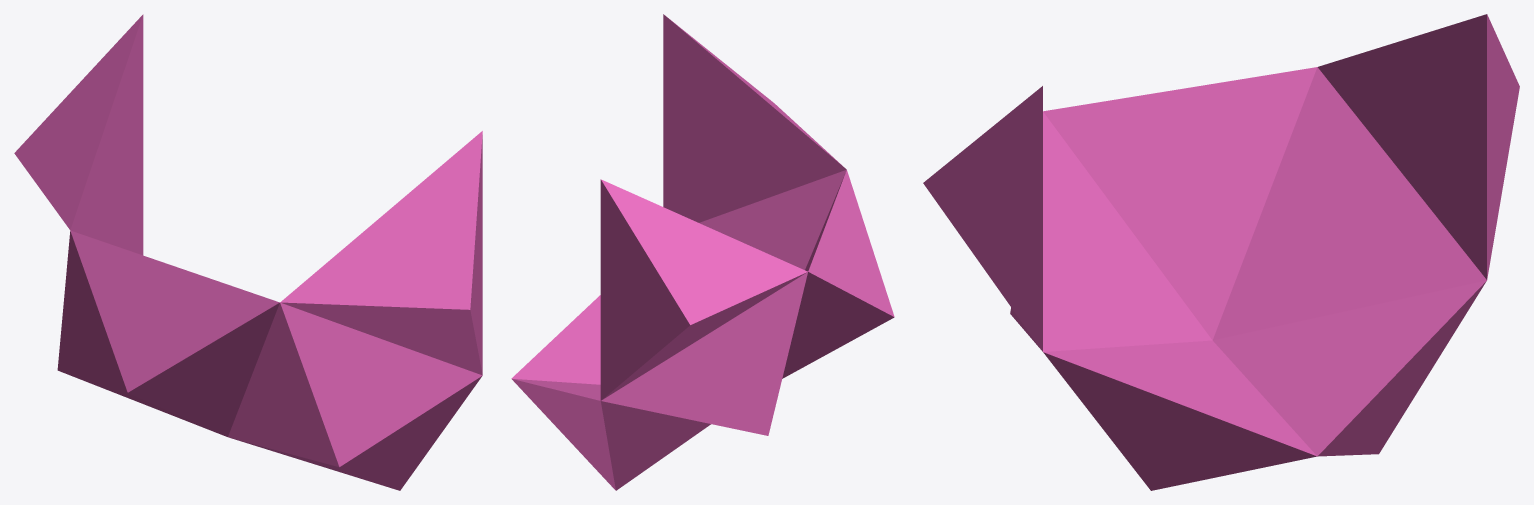
The picture shows the model from 3 angles, left to right: view 1: azimuth 30°, elevation 25°; view 2: azimuth 150°, elevation 25°; view 3: azimuth 270°, elevation 25°; orthographic projection. The views are drawn at different scales.
Parts seen in each view (by area): view 1: Object_15; view 2: Object_15; view 3: Object_15.
Part boxes in pixels (box(x1,y1,x2,y2)): Object_15: box(14, 14, 482, 490); Object_15: box(511, 14, 894, 490); Object_15: box(923, 14, 1519, 490).
Size of the model in its own units: 4.93 by 5.28 by 6.76.
